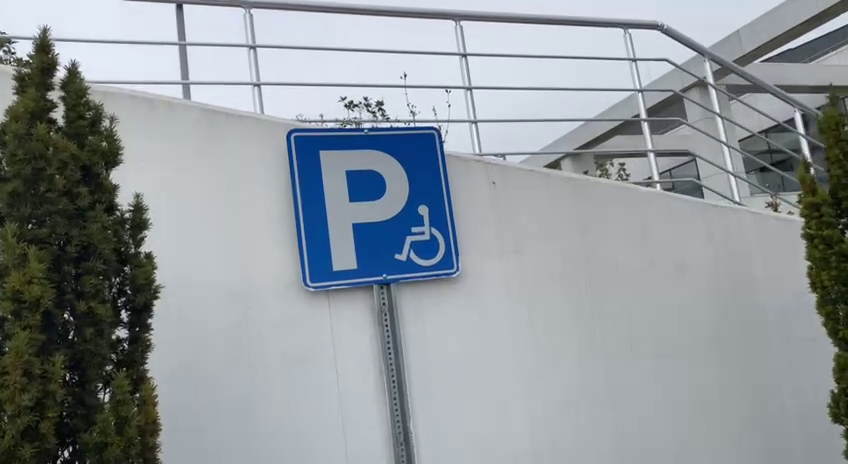parking: (285, 122, 462, 293)
